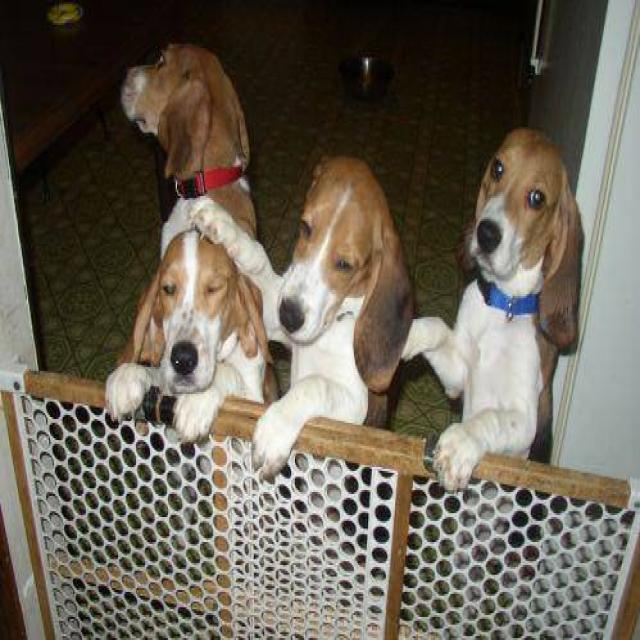dog: (180, 152, 416, 478), (399, 125, 583, 492), (104, 227, 278, 442)
